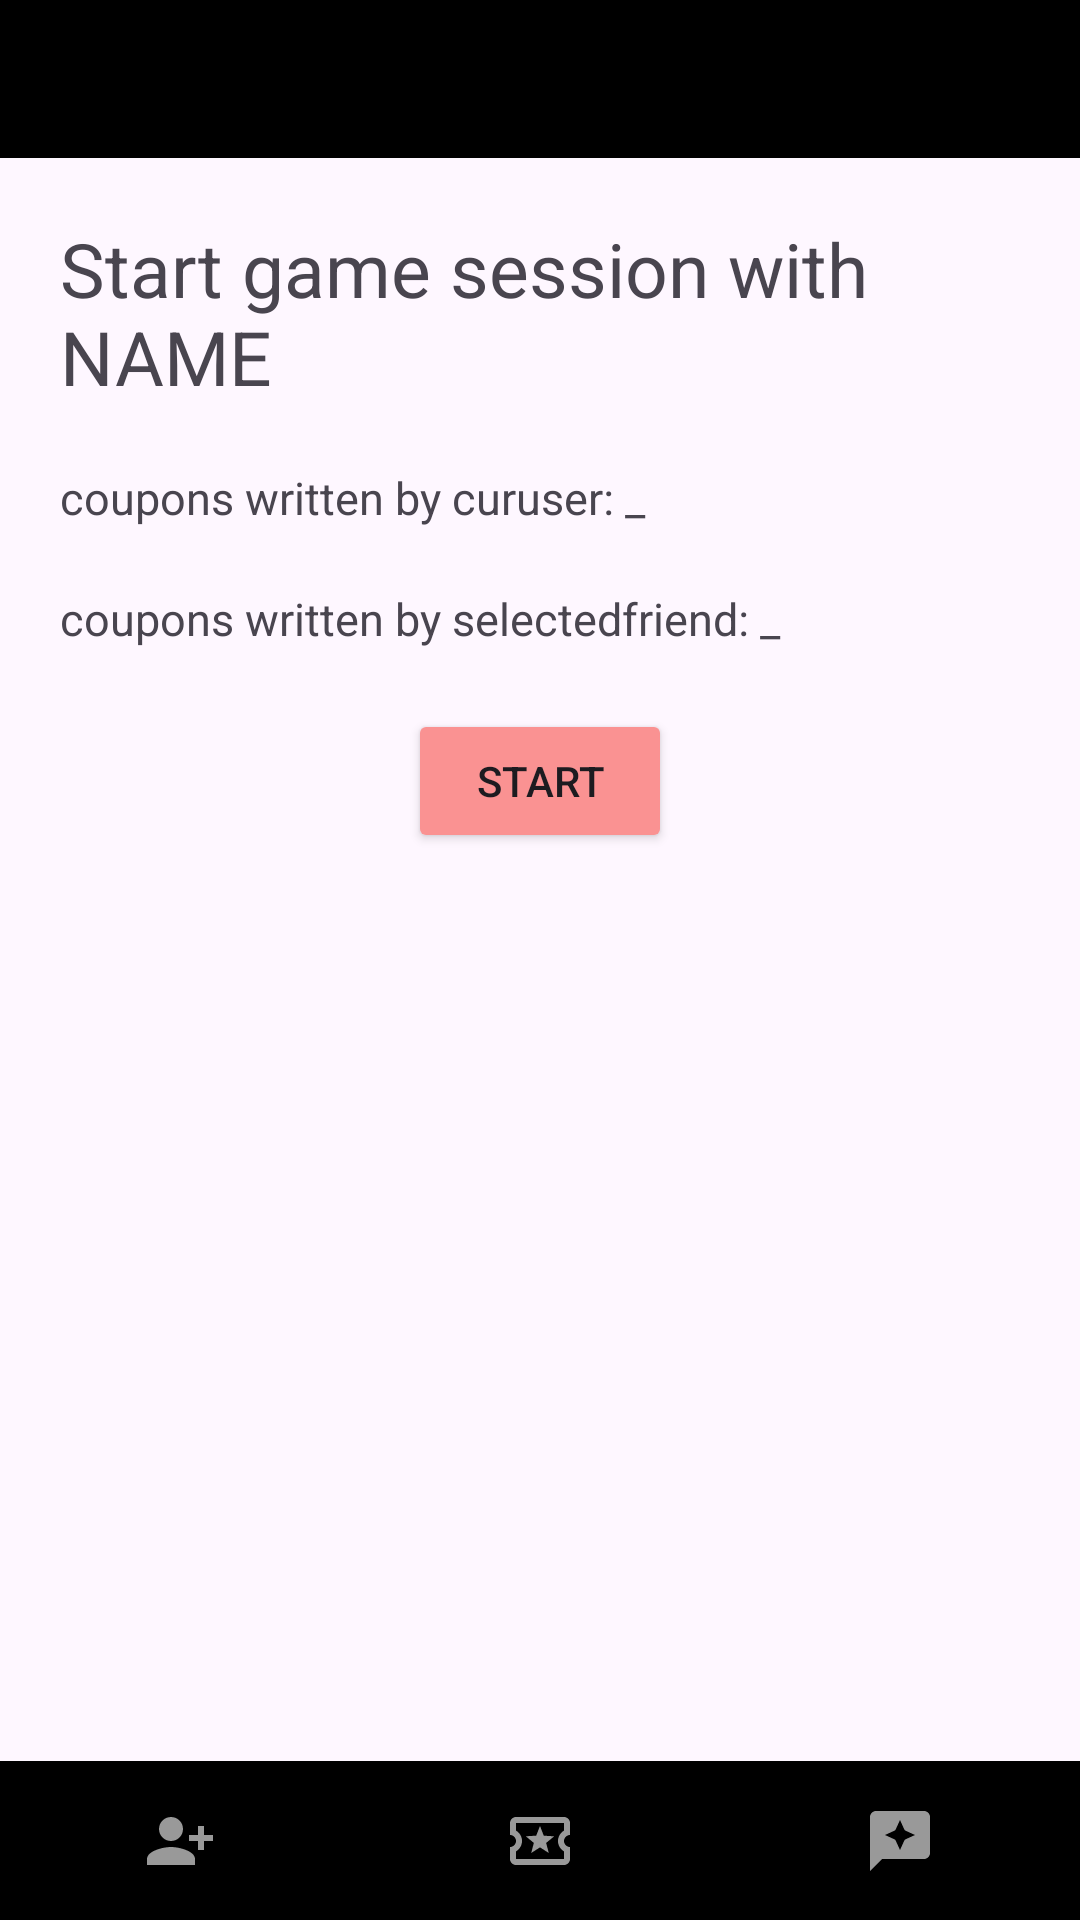

Locate icon controls on the screen. Image size 1080 x 1920, boxes as (x1, y1, x2, y2).
local activity: (510, 1817, 570, 1865)
person add: (147, 1817, 213, 1865)
reviews: (870, 1811, 930, 1871)
